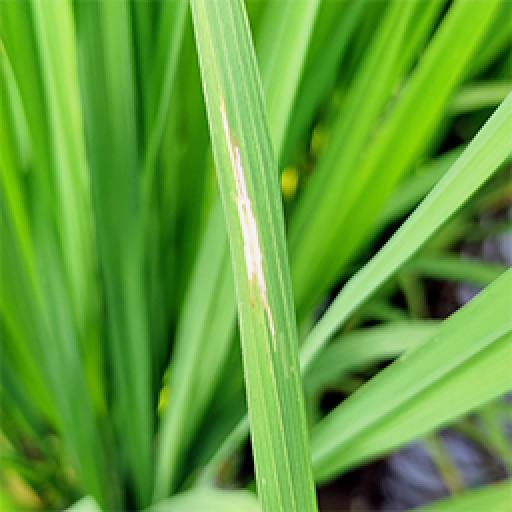Bacterial Leaf Blight: (208, 108, 282, 346)
